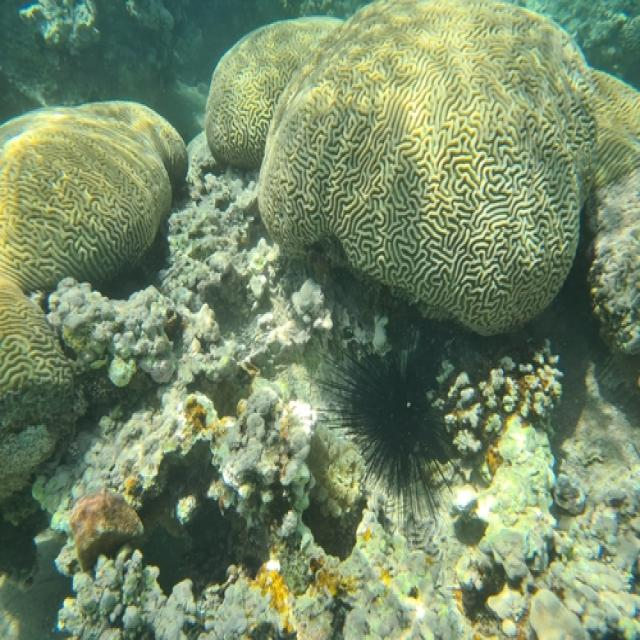Urchin: (302, 309, 457, 531)
